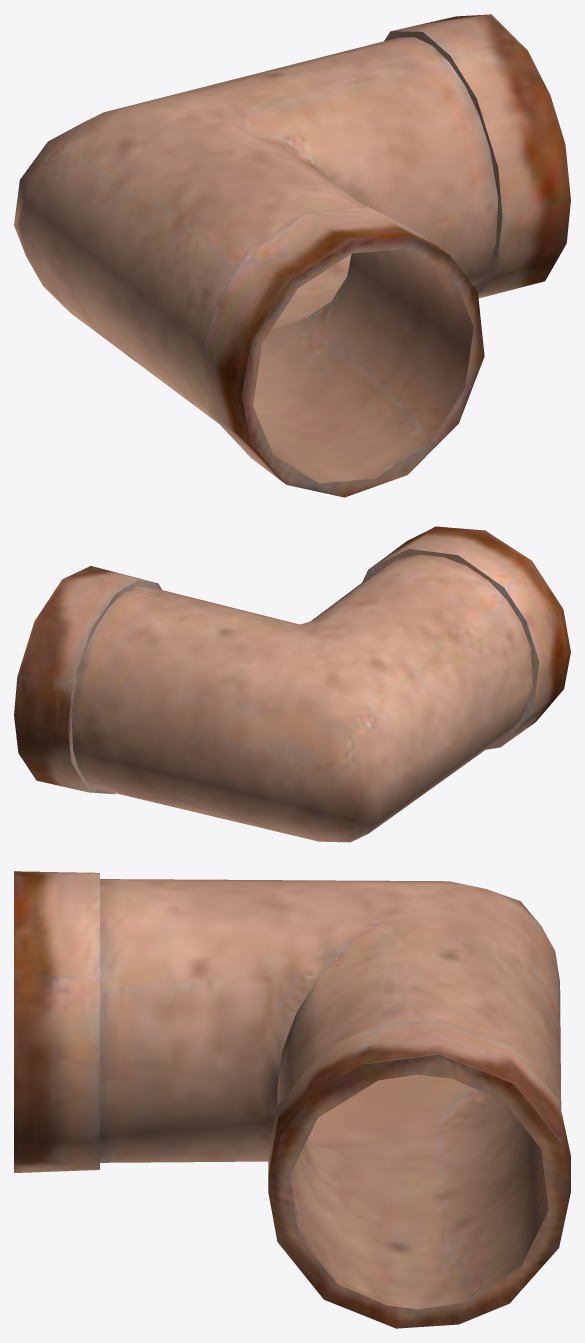
Rendered from small_copper_pipe_14.glb.
3 renders of one model, top to bottom at view 1: azimuth 30°, elevation 25°; view 2: azimuth 150°, elevation 25°; view 3: azimuth 270°, elevation 25°, orthographic. The views are drawn at different scales.
Parts seen in each view (by area): view 1: small_copper_pipe_14; view 2: small_copper_pipe_14; view 3: small_copper_pipe_14.
Boxes of the visible parts, x1,y1,x2,y2 form: small_copper_pipe_14: (14, 14, 570, 497); small_copper_pipe_14: (14, 526, 570, 842); small_copper_pipe_14: (14, 871, 570, 1328).
Size of what is drawn, in the model's own units: 0.0395 by 0.0215 by 0.0396.
Materials: 1 (1 with a texture image).
